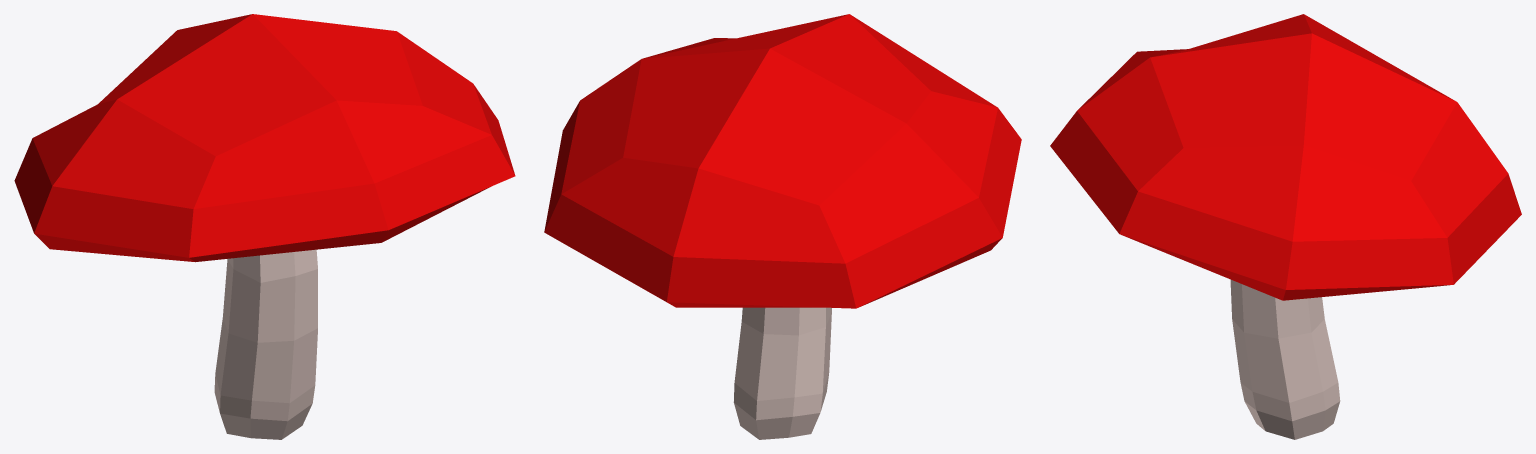
Rendered from MUSH_UMBRELLA_RED.fbx.
3 renders of one model, left to right at view 1: azimuth 30°, elevation 25°; view 2: azimuth 150°, elevation 25°; view 3: azimuth 270°, elevation 25°, orthographic. The views are drawn at different scales.
Visible parts, largest first — view 1: pCube17, pCube18; view 2: pCube17, pCube18; view 3: pCube17, pCube18.
Boxes of the visible parts, left/top/right/bottom form: pCube17: left=14, top=14, right=515, bottom=262; pCube18: left=214, top=249, right=317, bottom=439; pCube17: left=544, top=14, right=1021, bottom=308; pCube18: left=733, top=307, right=831, bottom=439; pCube17: left=1050, top=14, right=1521, bottom=300; pCube18: left=1230, top=280, right=1340, bottom=439.
Size of the model in its own units: 17.11 by 14.49 by 15.62.
